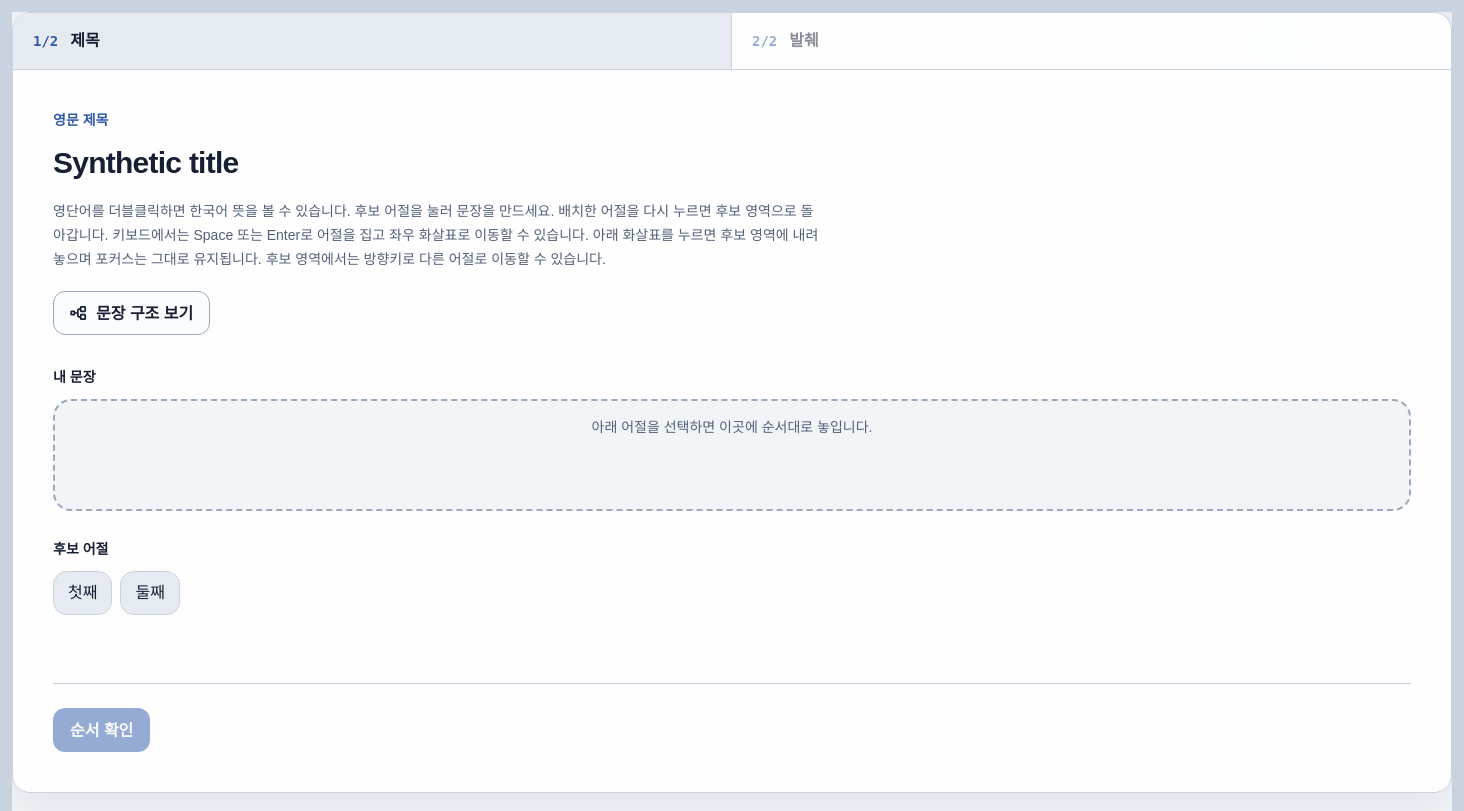
it: LessonPlayer › guides the interpretation order without merging word blocks
The image size is (1464, 811).
Click the button "문장 구조 보기" at (132, 313), box [53,291,210,335]
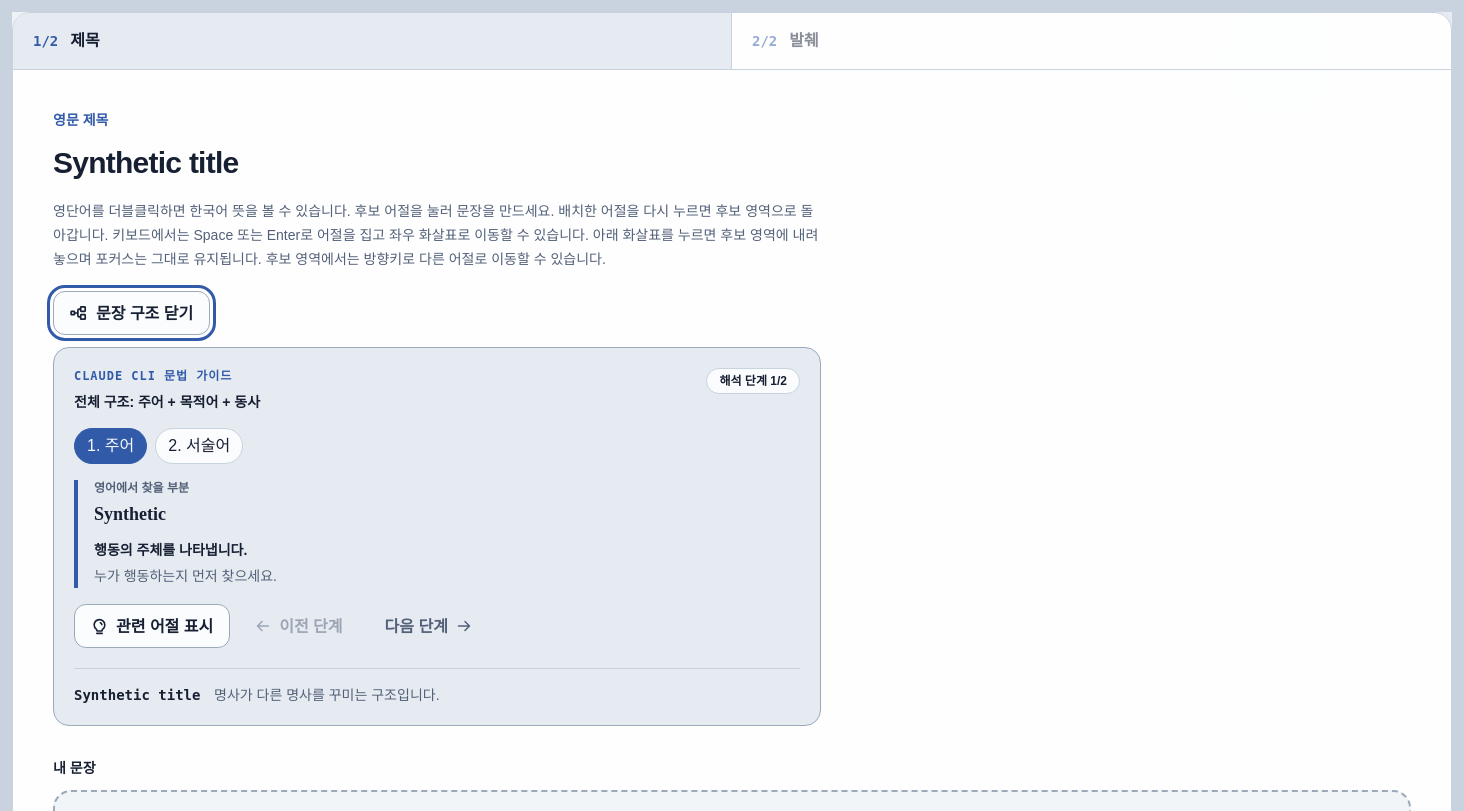
Check: the text "전체 구조: 주어 + 목적어 + 동사" is shown, box [74,392,260,412]
Check: the text "누가 행동하는지 먼저 찾으세요." is shown, box [94,568,277,584]
Click the button "관련 어절 표시" at (152, 626), box [74,604,230,648]
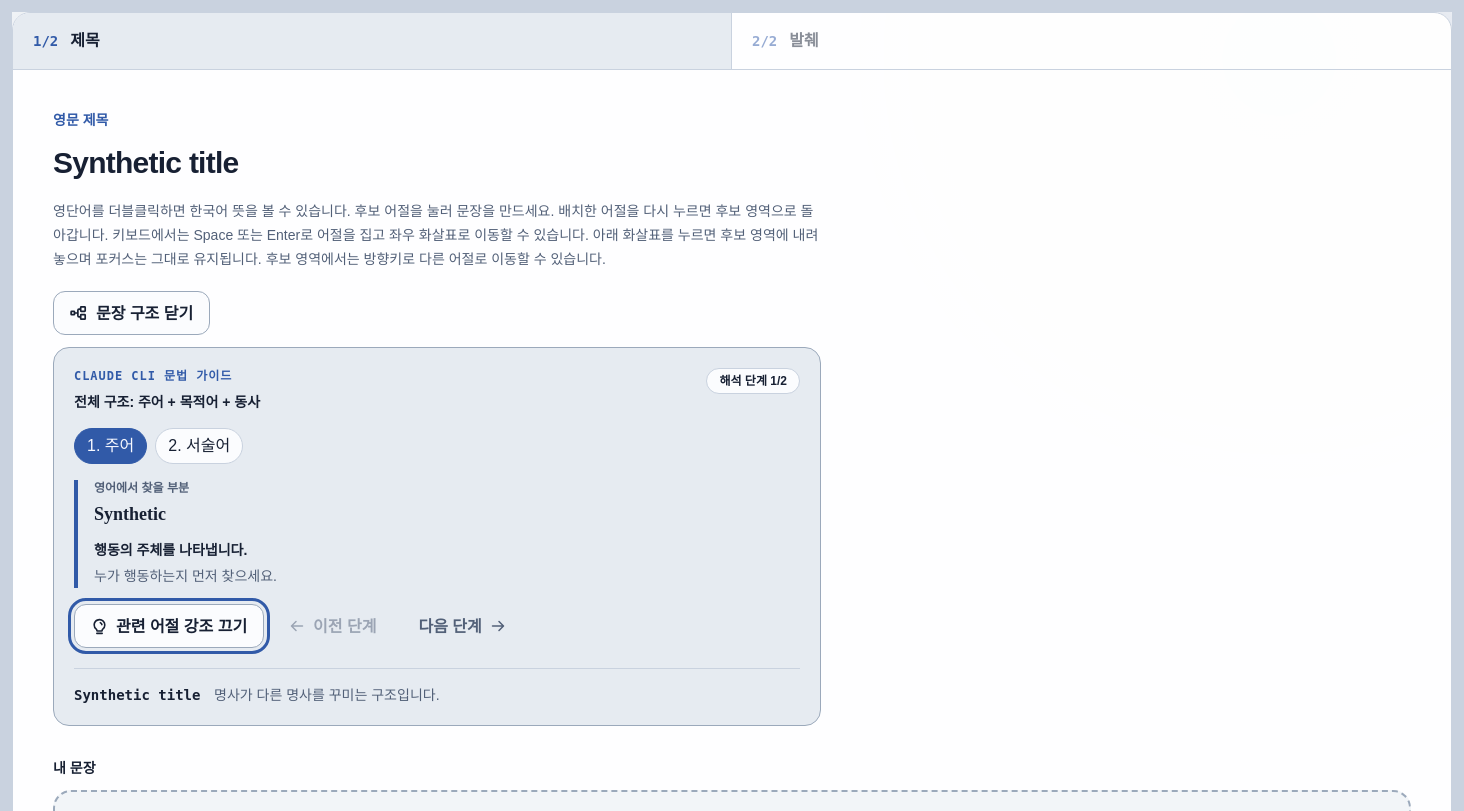
Click the button "다음 단계" at (462, 626), box [401,604,523,648]
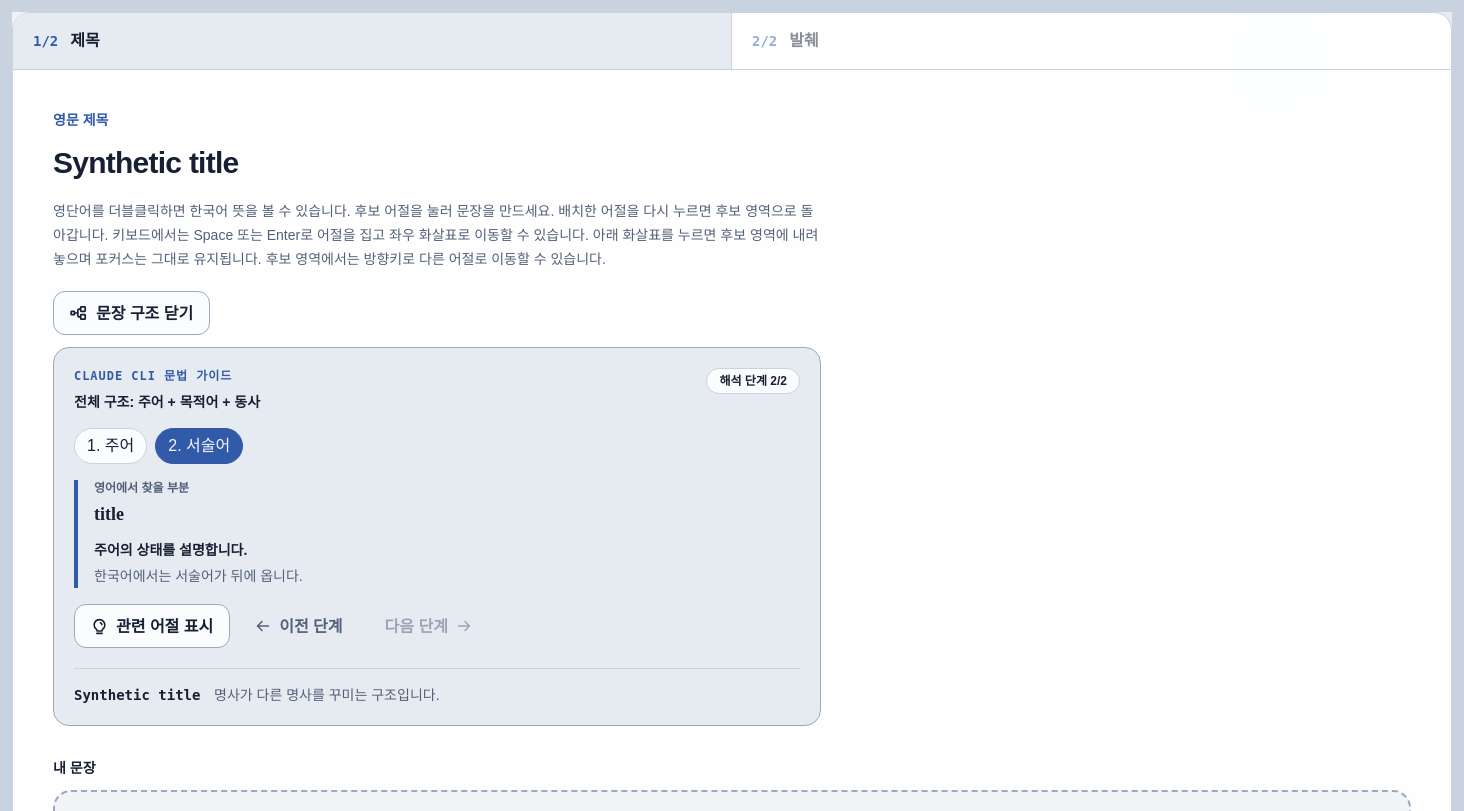
Check: the text "한국어에서는 서술어가 뒤에 옵니다." is shown, box [94,568,303,584]
